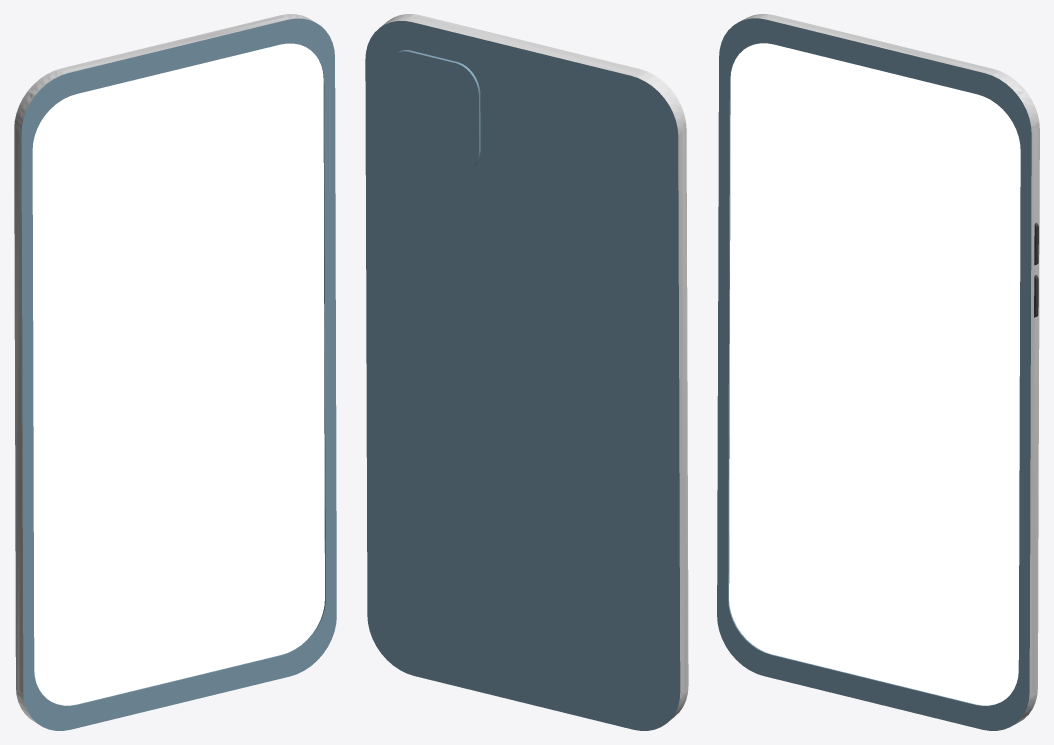
File: Phone.glb
3 views of the same model, side by side, from view 1: azimuth 30°, elevation 25°; view 2: azimuth 150°, elevation 25°; view 3: azimuth 330°, elevation 25° (orthographic).
Visible parts, largest first — view 1: Plane; view 2: Plane; view 3: Plane.
Part boxes in pixels (box(x1,y1,x2,y2)): Plane: box(14, 14, 336, 730); Plane: box(365, 14, 688, 730); Plane: box(717, 14, 1039, 730).
Size of the model in its own units: 2.35 by 4.65 by 0.1474.
